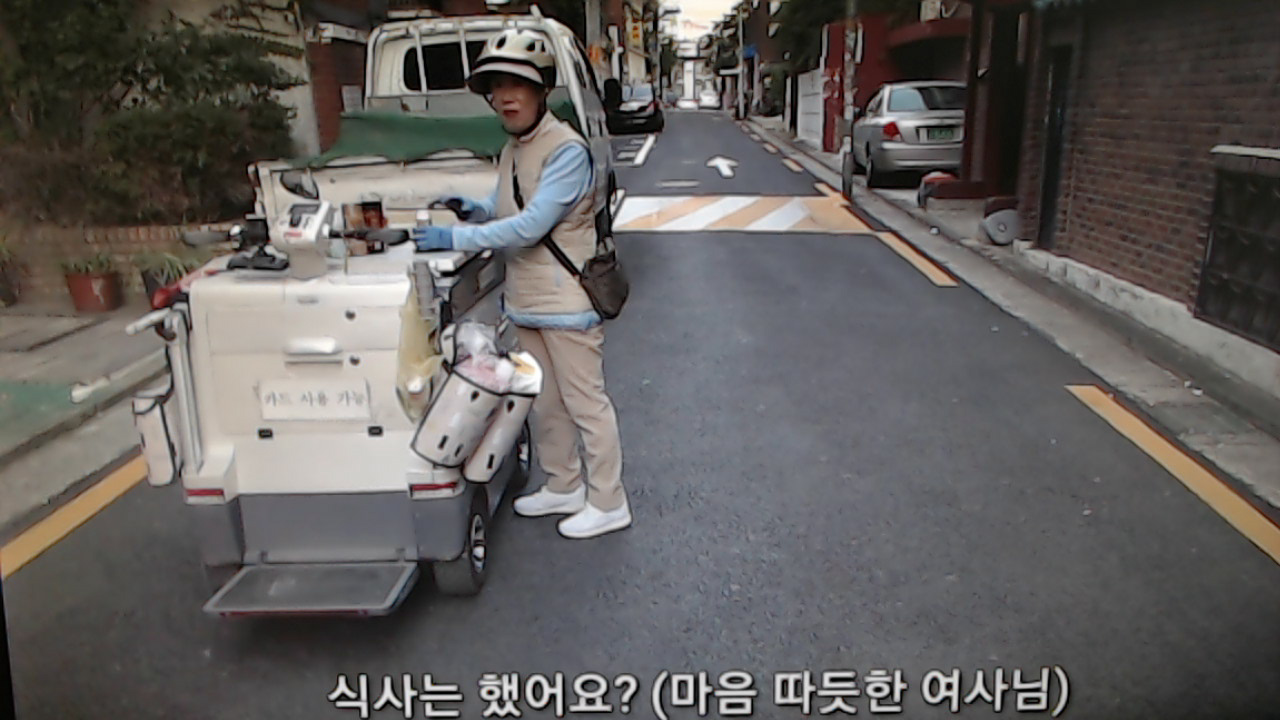Yakurut: (411, 25, 660, 557)
